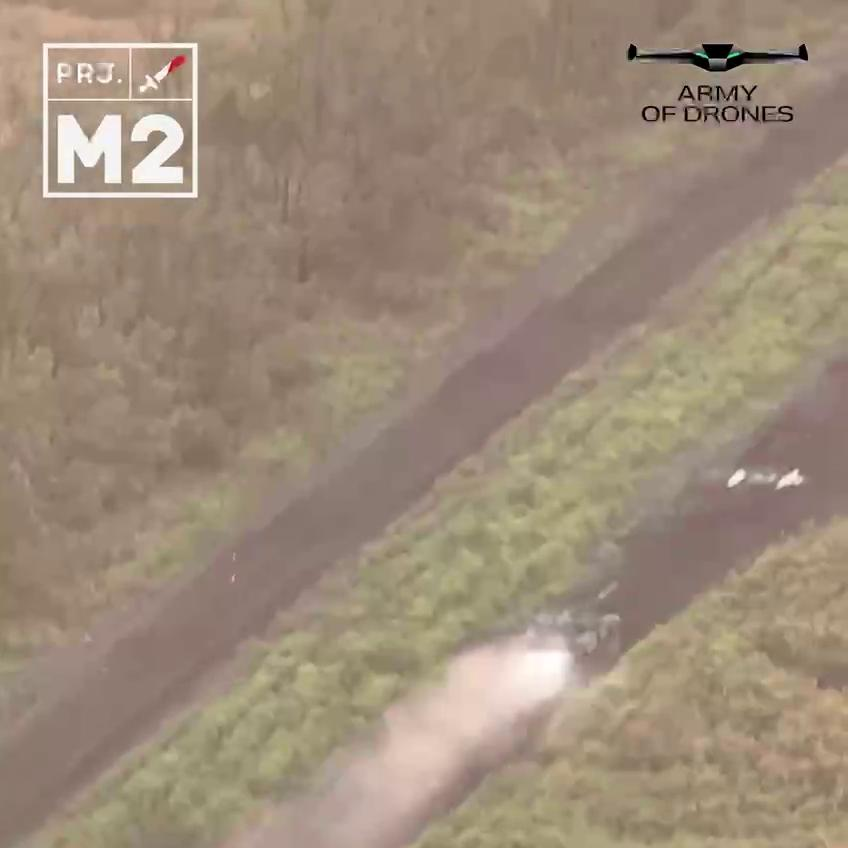tank: (515, 578, 645, 707)
